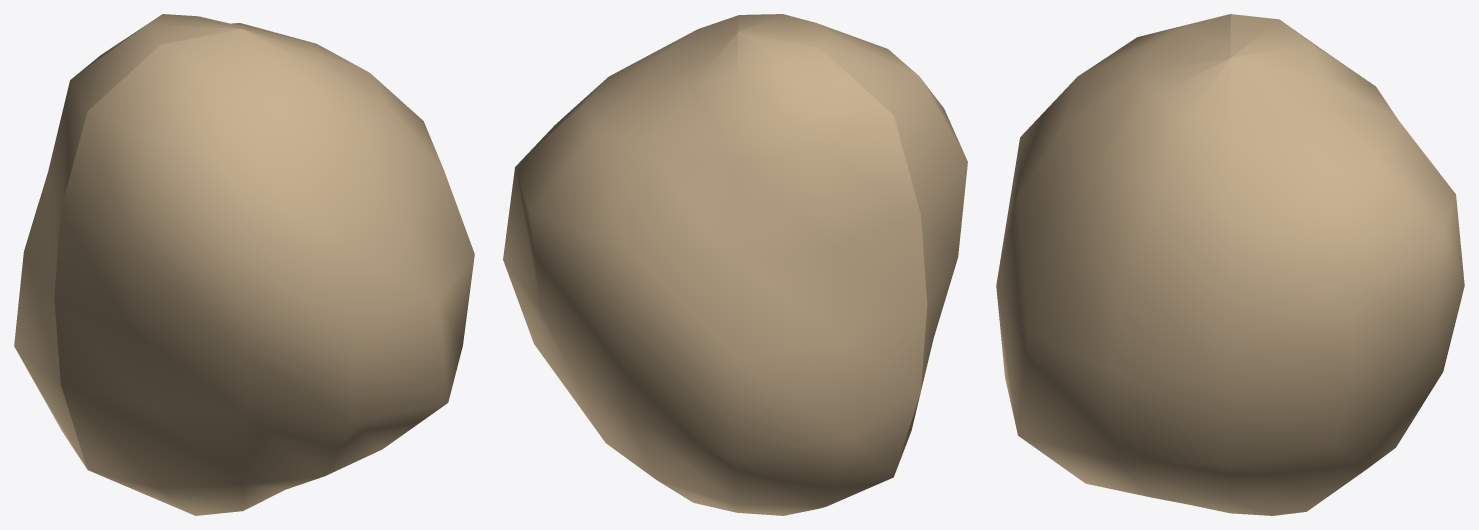
Rendered from left_trapezium.glb.
The picture shows the model from 3 angles, left to right: view 1: azimuth 30°, elevation 25°; view 2: azimuth 150°, elevation 25°; view 3: azimuth 270°, elevation 25°; orthographic projection.
Parts seen in each view (by area): view 1: left_trapezium:body; view 2: left_trapezium:body; view 3: left_trapezium:body.
Part boxes in pixels (x1,y1,x2,y2): left_trapezium:body: (14, 14, 474, 515); left_trapezium:body: (503, 14, 967, 515); left_trapezium:body: (996, 14, 1464, 515).
Size of the model in its own units: 0.0987 by 0.1128 by 0.1034.
